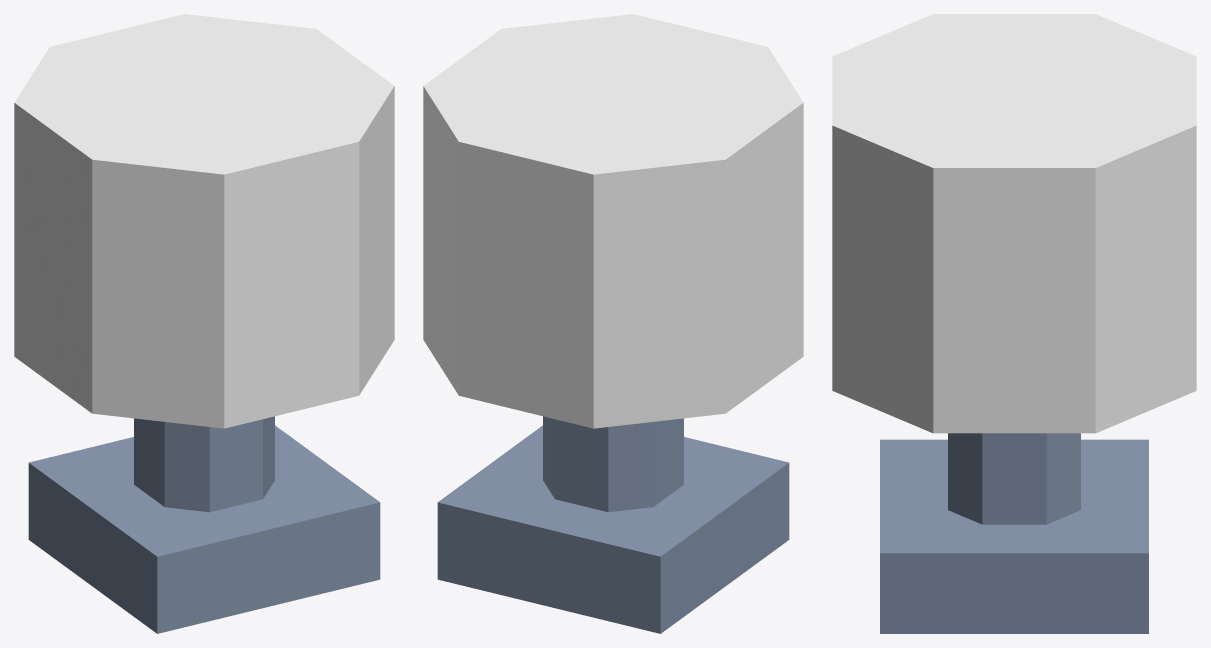
File: lamp.glb
The picture shows the model from 3 angles, left to right: view 1: azimuth 30°, elevation 25°; view 2: azimuth 150°, elevation 25°; view 3: azimuth 270°, elevation 25°; orthographic projection. The views are drawn at different scales.
Visible parts, largest first — view 1: BedsideLamp; view 2: BedsideLamp; view 3: BedsideLamp.
Part boxes in pixels (x1,y1,x2,y2): BedsideLamp: [14, 14, 394, 633]; BedsideLamp: [423, 14, 803, 633]; BedsideLamp: [832, 14, 1196, 633].
Size of the model in its own units: 0.1613 by 0.2372 by 0.1613.
1 material, 1 textured.
